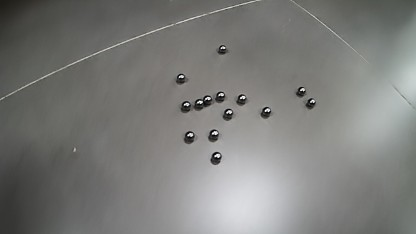ironball: (211, 151, 222, 164), (208, 129, 219, 141), (184, 130, 194, 143), (194, 98, 204, 109), (236, 94, 247, 104), (181, 100, 191, 111), (223, 108, 233, 119), (261, 106, 271, 117), (216, 91, 225, 102), (297, 86, 306, 96), (307, 98, 316, 108), (203, 95, 212, 105), (176, 73, 185, 83), (218, 45, 226, 54)
